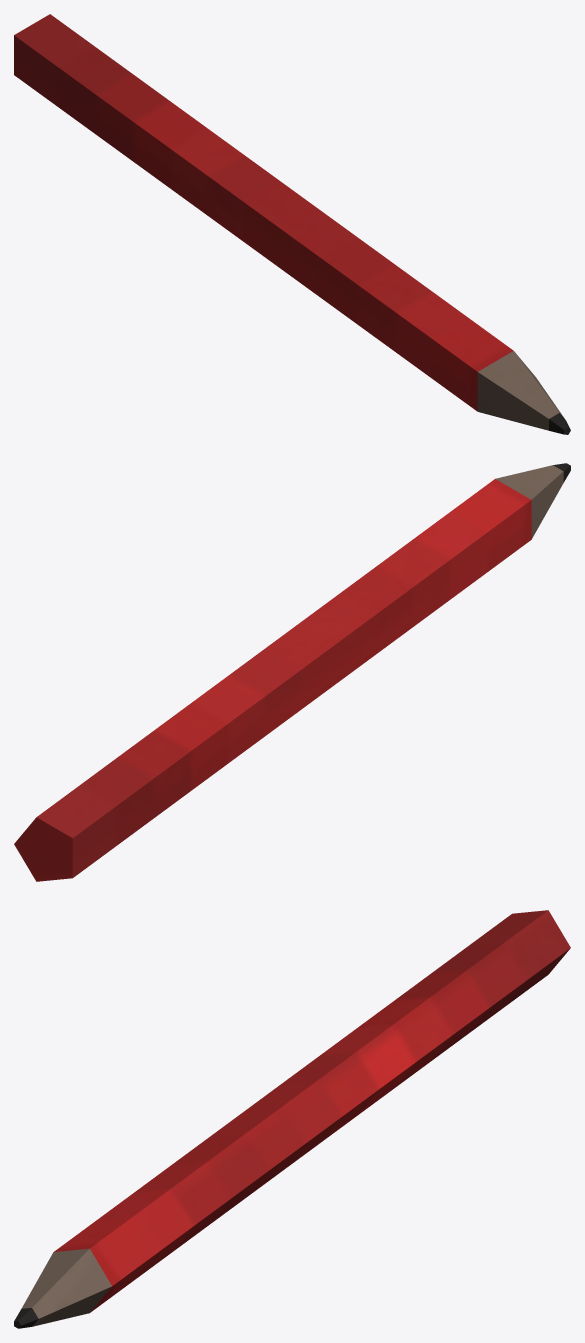
Rendered from SM_Pencil.fbx.
3 renders of one model, top to bottom at view 1: azimuth 30°, elevation 25°; view 2: azimuth 150°, elevation 25°; view 3: azimuth 330°, elevation 25°, orthographic.
Parts seen in each view (by area): view 1: SM_Pencil; view 2: SM_Pencil; view 3: SM_Pencil.
Part boxes in pixels (bbox=[...]): SM_Pencil: bbox=[14, 14, 570, 434]; SM_Pencil: bbox=[14, 463, 570, 881]; SM_Pencil: bbox=[14, 910, 570, 1328].
Bounding box in the file's own units: 1.86 × 1.87 × 27.56.
Materials: 3 (3 with a texture image).
